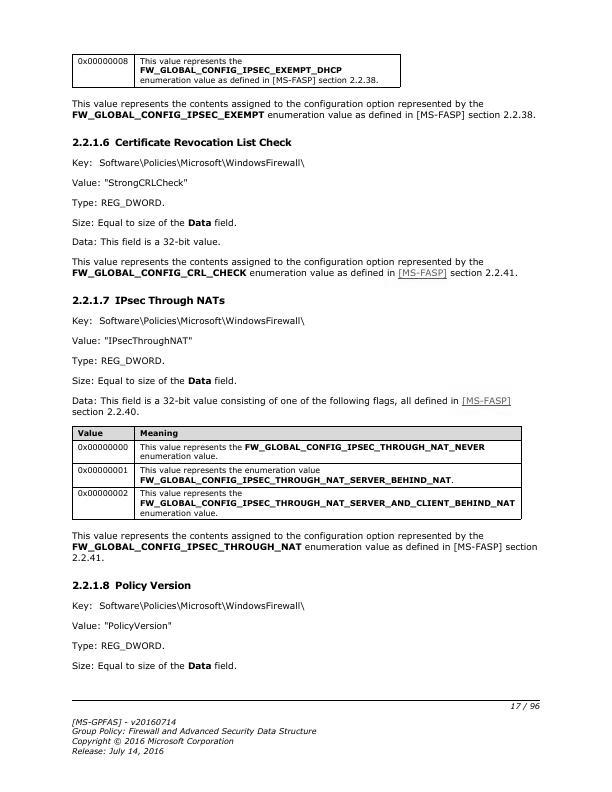table: (70, 424, 522, 520), (73, 53, 402, 89)
text: (69, 530, 539, 564), (69, 254, 519, 280), (69, 98, 537, 122), (68, 715, 319, 757), (70, 394, 512, 417), (68, 156, 306, 170), (69, 599, 307, 613), (69, 314, 311, 327), (70, 136, 294, 149), (70, 658, 238, 673), (69, 374, 238, 387), (69, 292, 226, 305), (70, 216, 238, 228), (69, 576, 193, 591), (68, 236, 222, 248), (68, 176, 191, 189), (69, 618, 173, 633), (68, 334, 195, 346), (69, 640, 166, 653), (69, 196, 168, 208), (69, 354, 168, 366)
